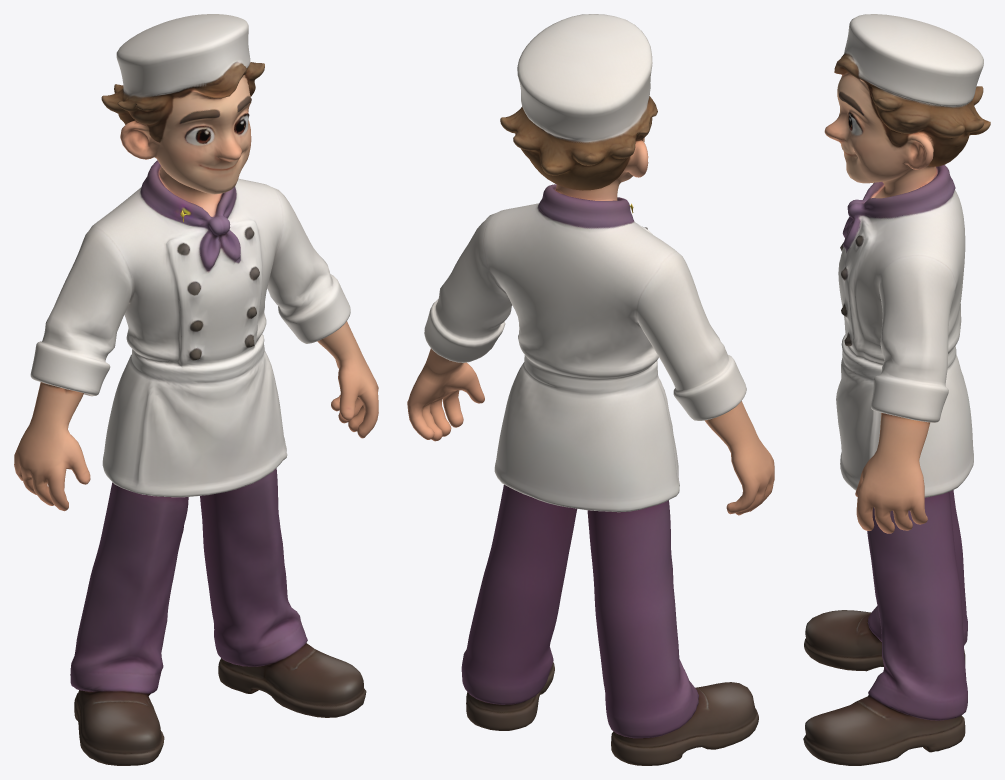
The model's file is french_chef.glb.
The picture shows the model from 3 angles, left to right: view 1: azimuth 30°, elevation 25°; view 2: azimuth 150°, elevation 25°; view 3: azimuth 270°, elevation 25°; orthographic projection.
Visible parts, largest first — view 1: model; view 2: model; view 3: model.
Part boxes in pixels (left/top/right/bottom): model: left=14, top=14, right=378, bottom=765; model: left=407, top=14, right=774, bottom=765; model: left=803, top=14, right=990, bottom=765.
Bounding box in the file's own units: 1.01 × 1.9 × 0.4746.
1 material, 1 textured.
